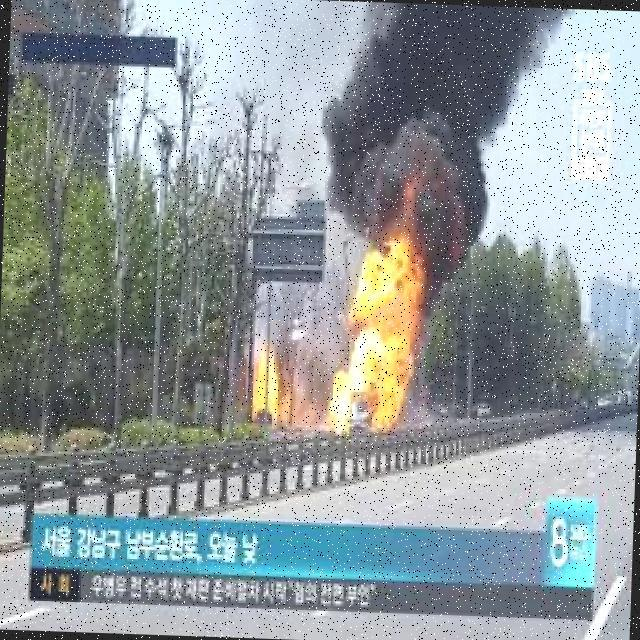Fire: (354, 268, 412, 411), (252, 373, 282, 416), (329, 381, 352, 430)
